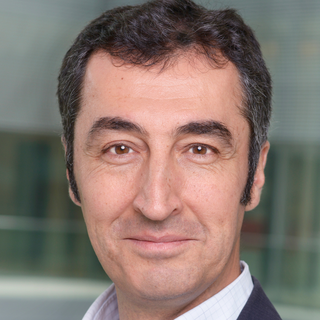eye: (173, 135, 223, 166), (94, 136, 145, 162)
